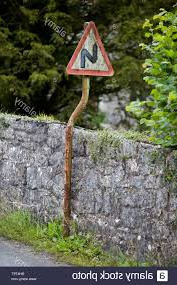Double_bend_right: (61, 18, 116, 79)
